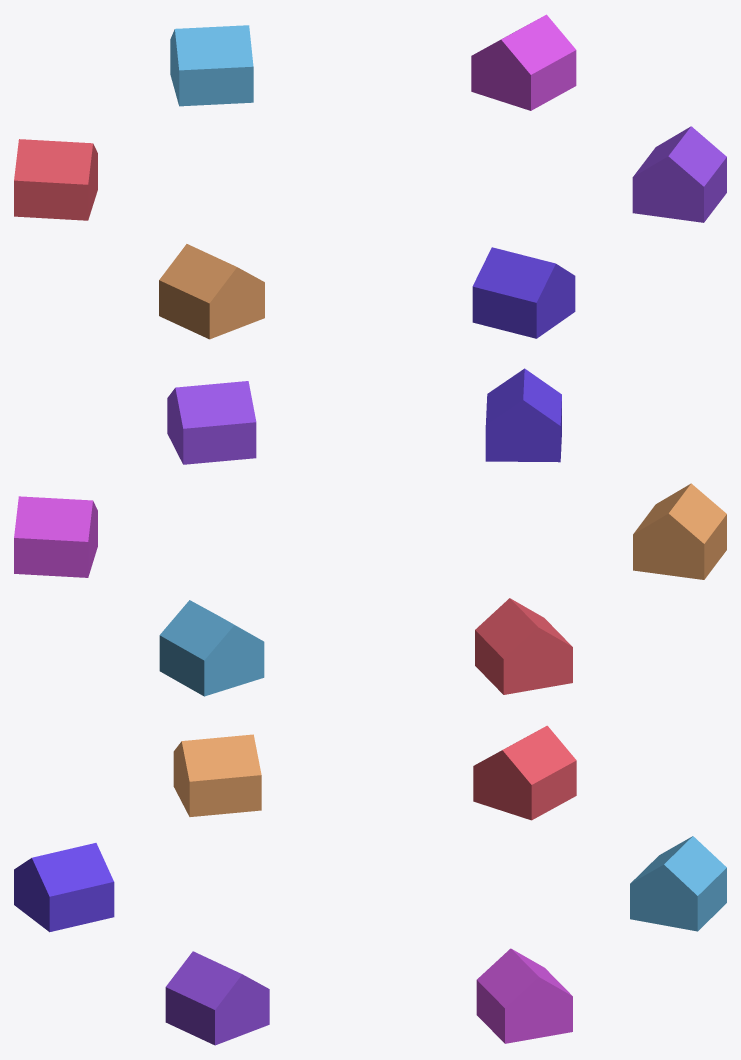
Rendered from towns6.dae.
The picture shows the model from 3 angles, top to bottom: view 1: azimuth 30°, elevation 25°; view 2: azimuth 150°, elevation 25°; view 3: azimuth 270°, elevation 25°; orthographic projection.
Visible parts, largest first — view 1: town.049; view 2: town.049; view 3: town.049.
Part boxes in pixels (x1,y1,x2,y2): town.049: (14,14,726,339); town.049: (14,368,726,696); town.049: (14,725,726,1045).
Bounding box in the file's own units: 2.07 × 2.32 × 0.2186.
